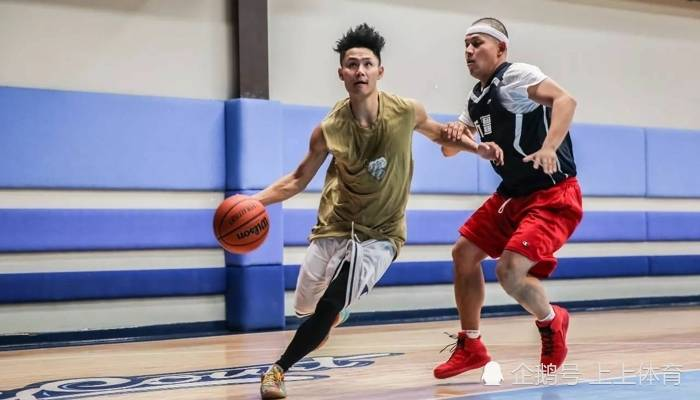ball: (213, 194, 271, 255)
